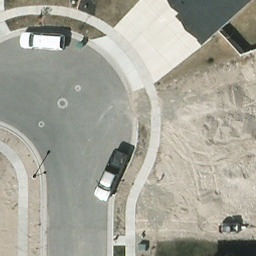car: (19, 32, 65, 52)
pickup: (91, 150, 130, 205)
